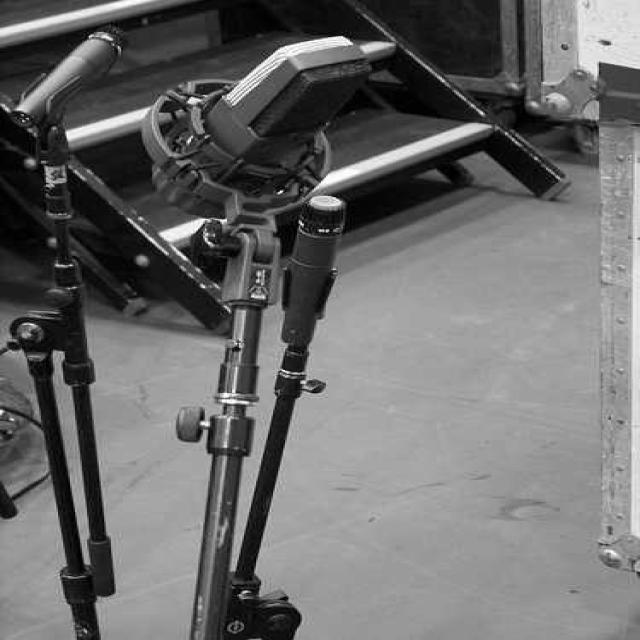microphone: (150, 38, 370, 220), (15, 30, 124, 132), (283, 196, 345, 336)
